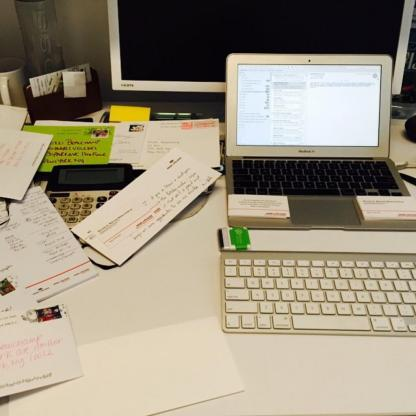board: (214, 53, 412, 234)
